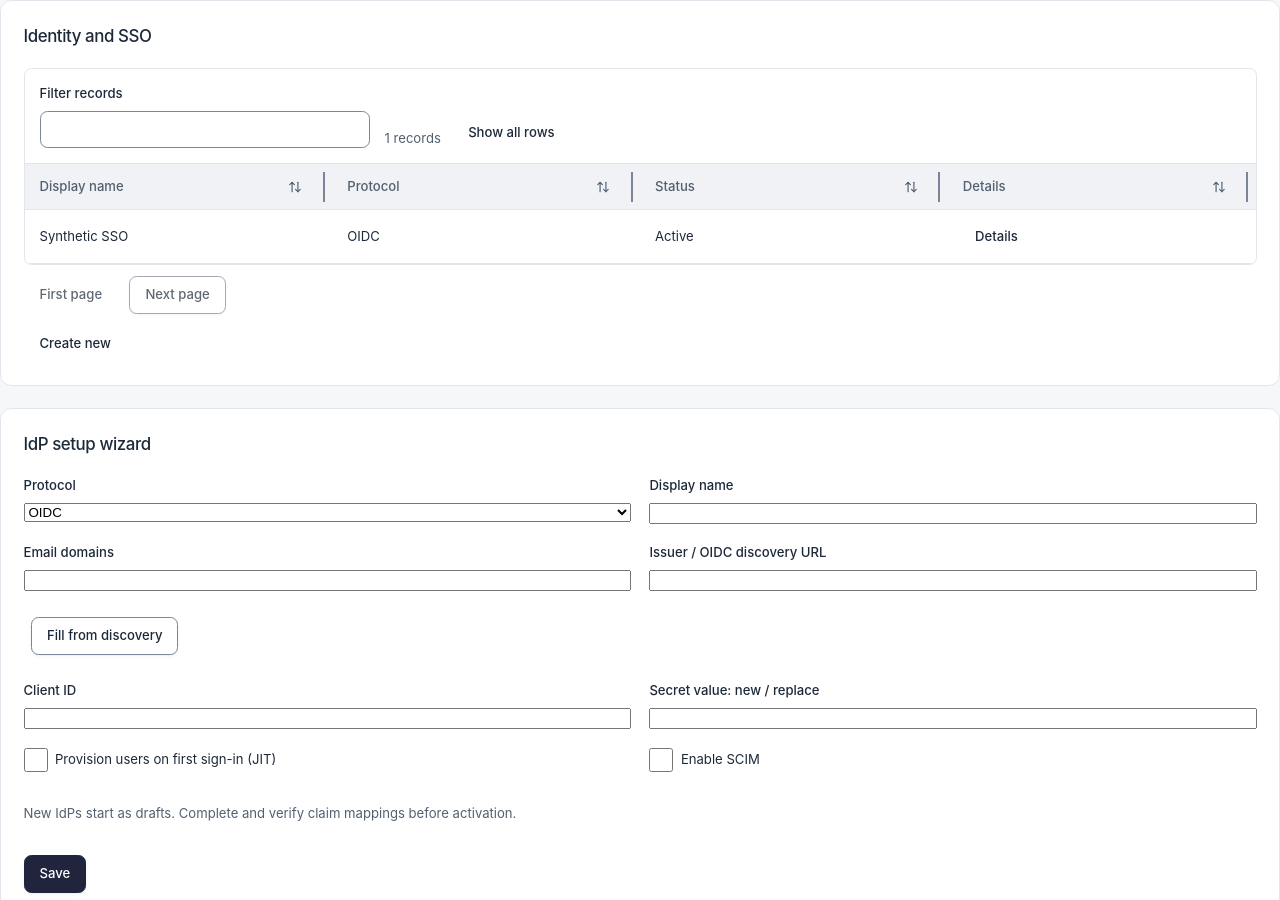
reports a failed selected provider detail and keeps create mode available
The width and height of the screenshot is (1280, 900).
Step 1. Click the button "Show all rows" → (511, 133), box left=456, top=118, right=567, bottom=148
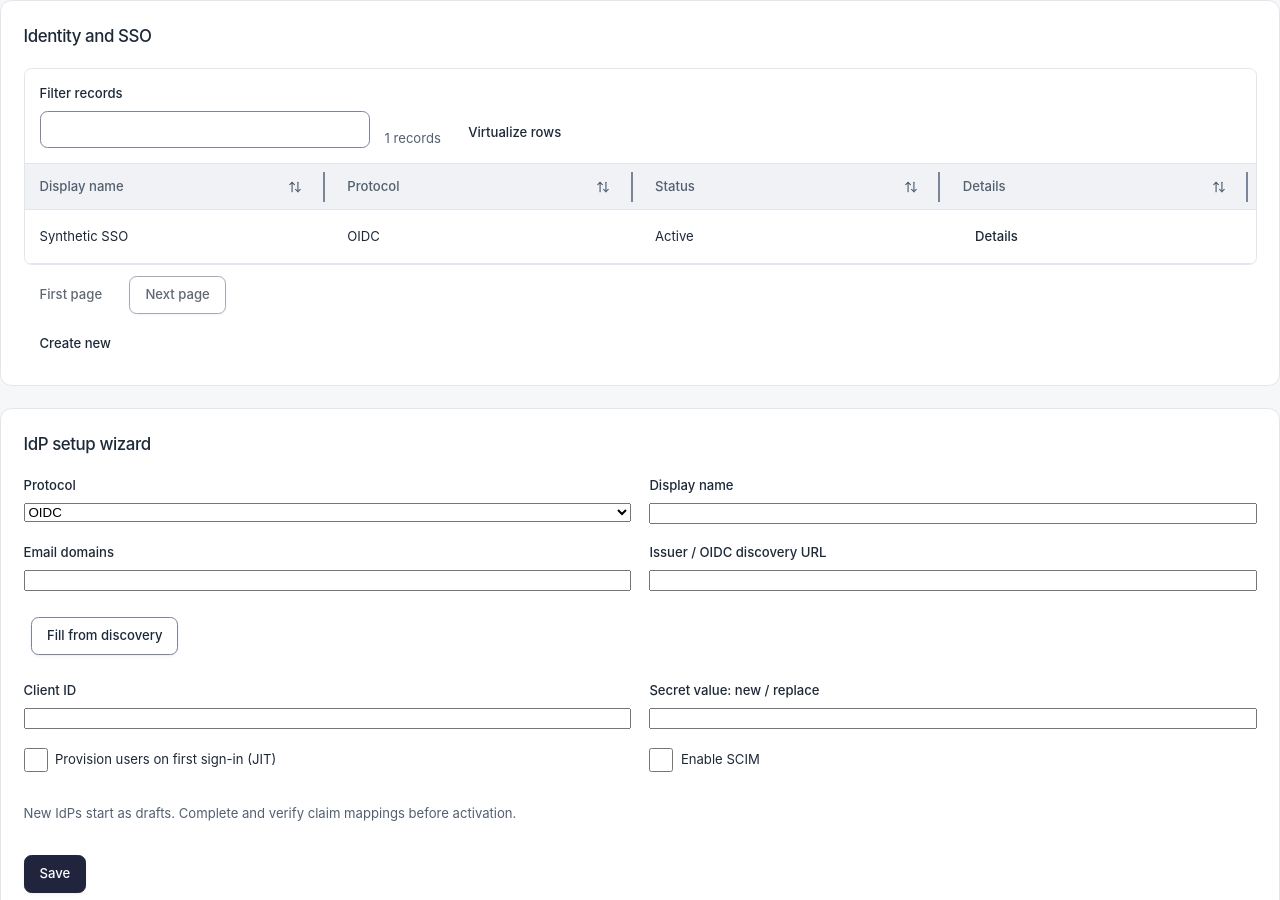
Step 2. Click the button "Details" in the row of "Synthetic SSO" → (996, 236), box left=963, top=222, right=1030, bottom=252
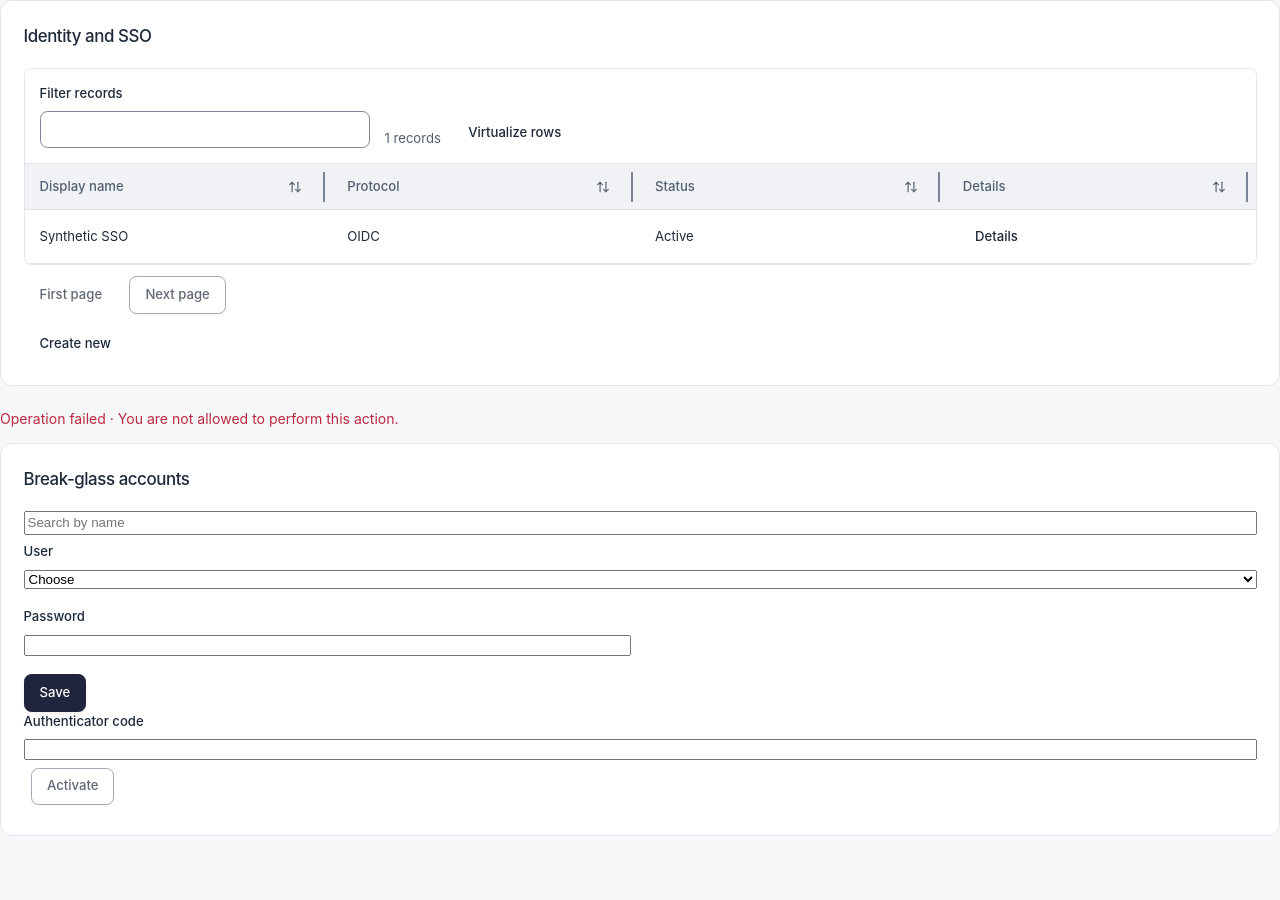
expect the message "Operation failed · You are not allowed to perform this action." is shown: met, box left=0, top=410, right=399, bottom=427
Step 3. Click the button "Create new" → (75, 344), box left=24, top=325, right=127, bottom=362
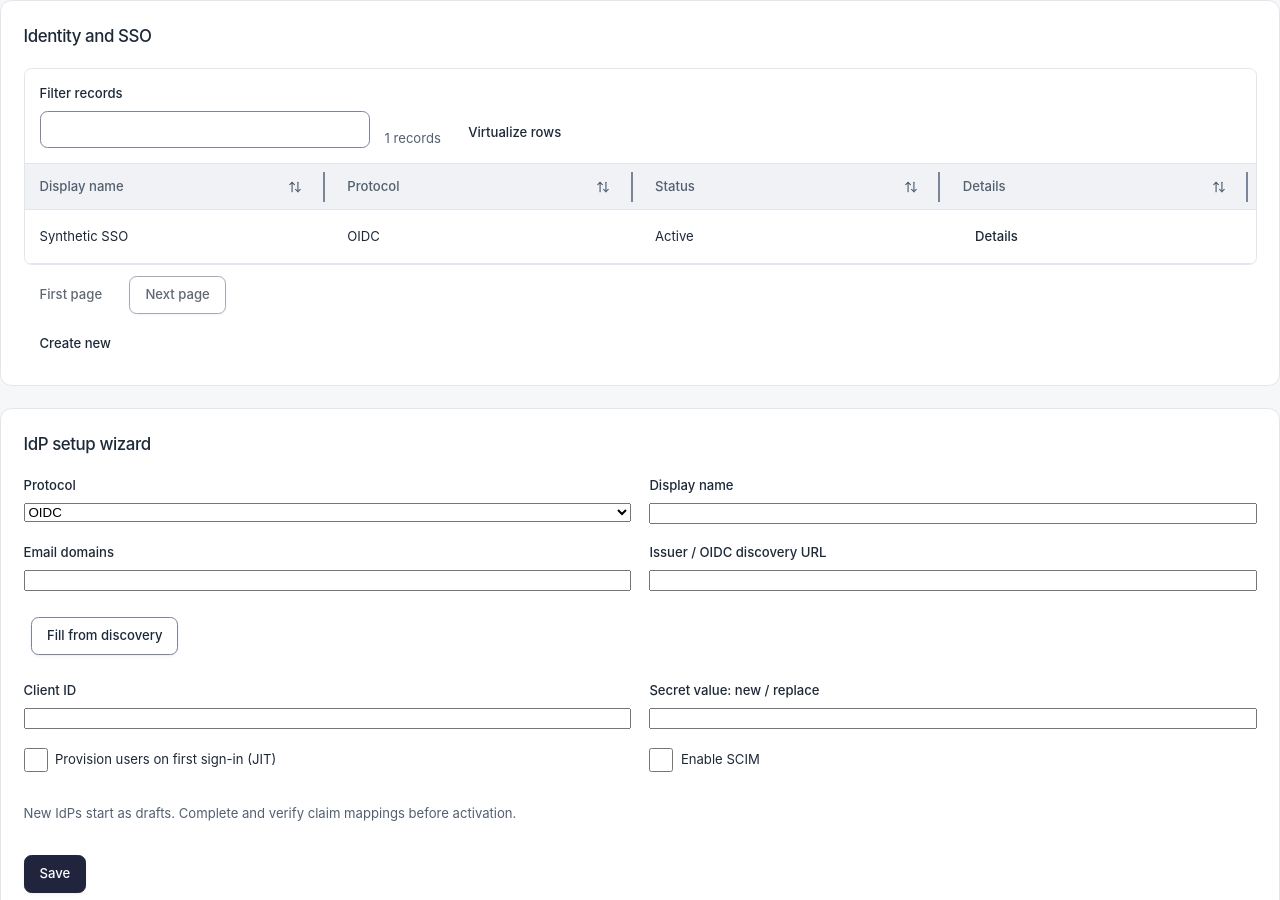
expect the field labelled "Display name" is shown: met, box left=649, top=503, right=1256, bottom=524
